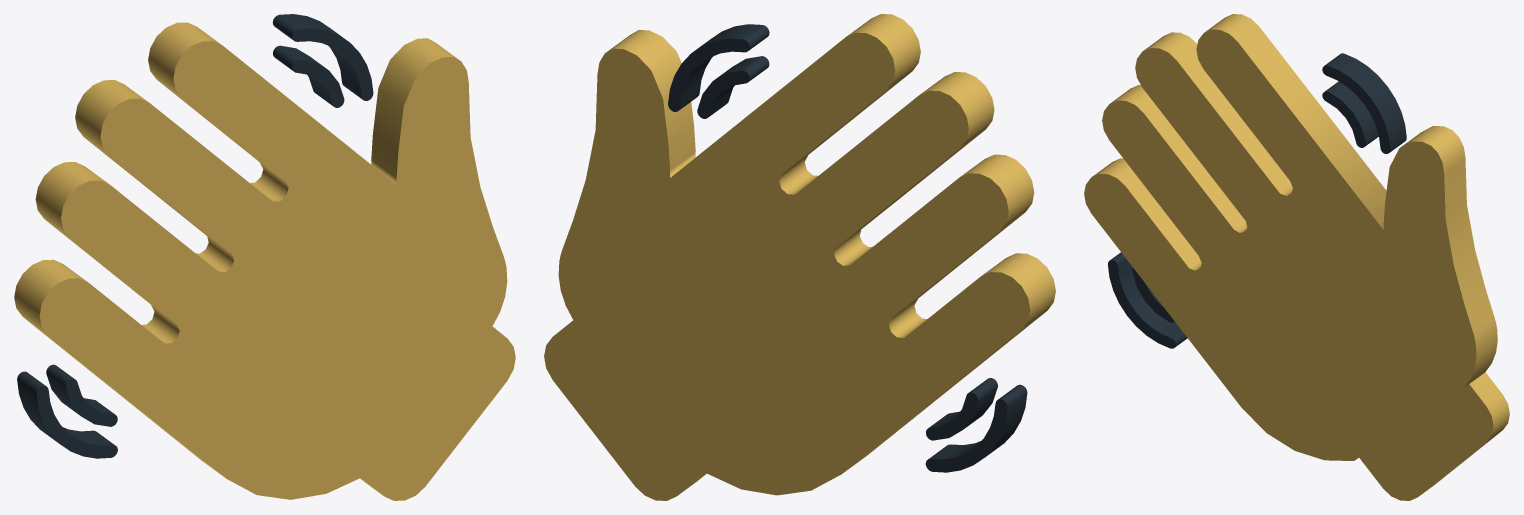
File: emoji_4.glb
3 renders of one model, left to right at view 1: azimuth 30°, elevation 25°; view 2: azimuth 150°, elevation 25°; view 3: azimuth 330°, elevation 25°, orthographic. The views are drawn at different scales.
Visible parts, largest first — view 1: Emoji_wave; view 2: Emoji_wave; view 3: Emoji_wave.
Part boxes in pixels (left/top/right/bottom): Emoji_wave: left=14, top=14, right=515, bottom=500; Emoji_wave: left=544, top=14, right=1055, bottom=500; Emoji_wave: left=1084, top=14, right=1509, bottom=500.
Bounding box in the file's own units: 0.5679 × 0.5789 × 0.0718.
